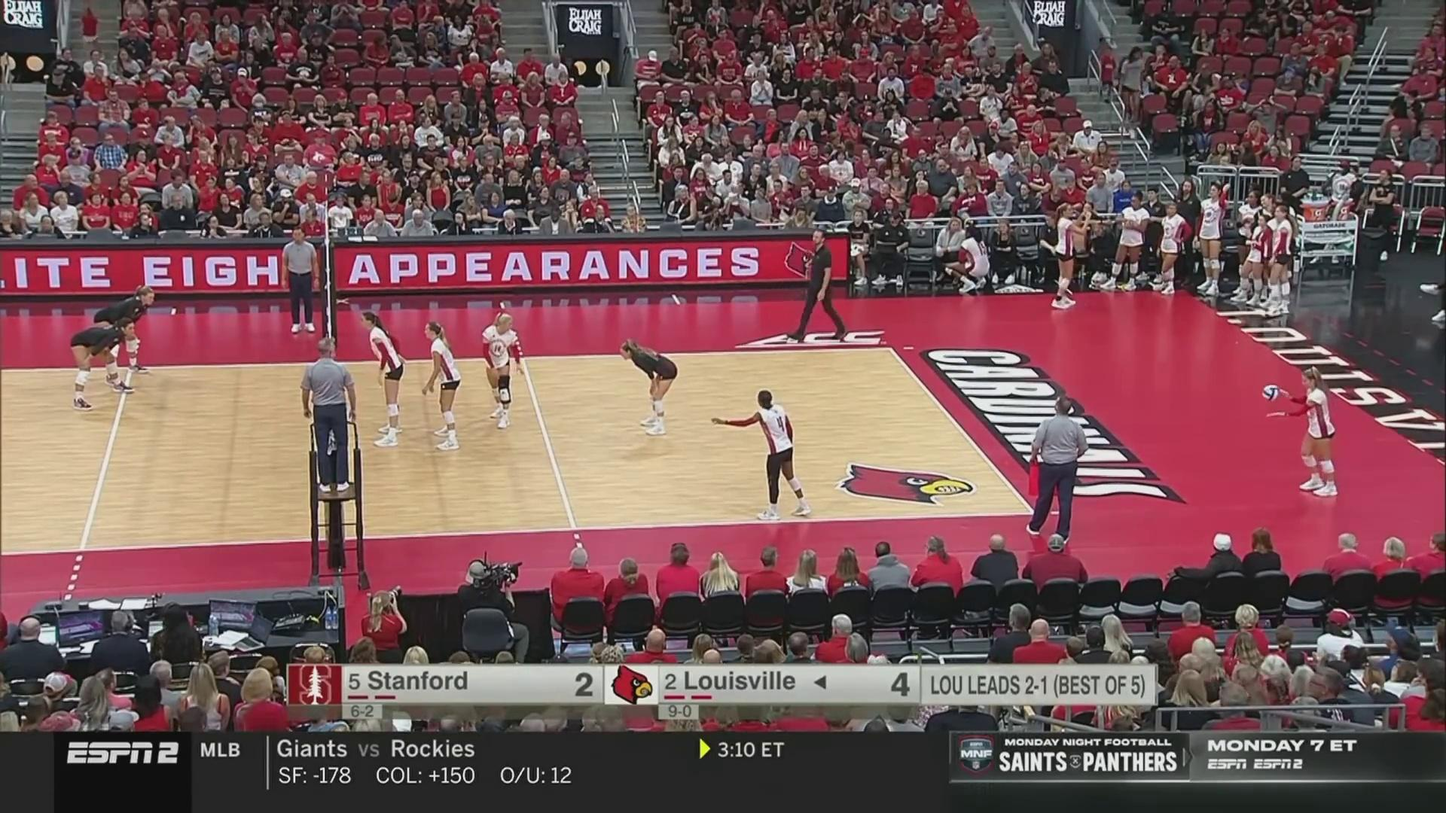player: (721, 391, 807, 522), (1271, 365, 1337, 500), (359, 312, 406, 448), (70, 316, 137, 410), (618, 342, 679, 439), (94, 289, 156, 382), (423, 324, 465, 449), (483, 311, 523, 431)
refree: (303, 338, 355, 492), (282, 227, 320, 333)
